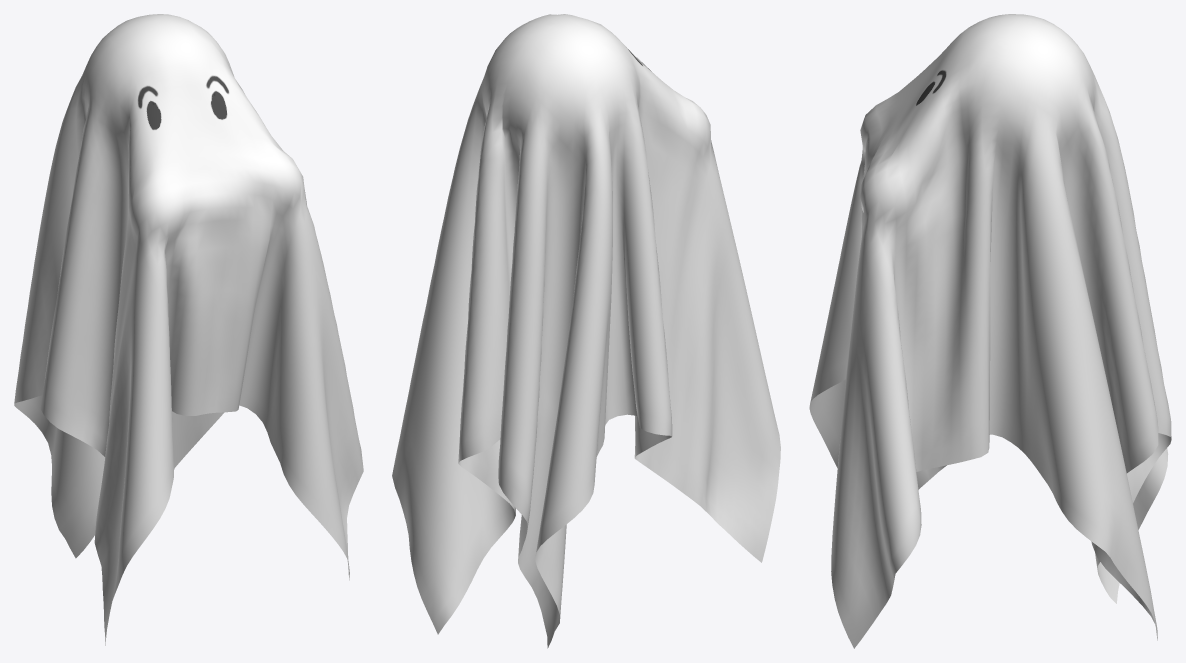
Rendered from SheetGhost.obj.
3 views of the same model, side by side, from view 1: azimuth 30°, elevation 25°; view 2: azimuth 150°, elevation 25°; view 3: azimuth 270°, elevation 25° (orthographic). The views are drawn at different scales.
Visible parts, largest first — view 1: Sheet_Plane; view 2: Sheet_Plane; view 3: Sheet_Plane.
Part boxes in pixels (x1=…): Sheet_Plane: x1=14, y1=14, x2=363, y2=645; Sheet_Plane: x1=392, y1=14, x2=780, y2=648; Sheet_Plane: x1=809, y1=14, x2=1171, y2=648.
Bounding box in the file's own units: 0.8517 × 1.66 × 0.9045.
2 materials, 1 textured.
